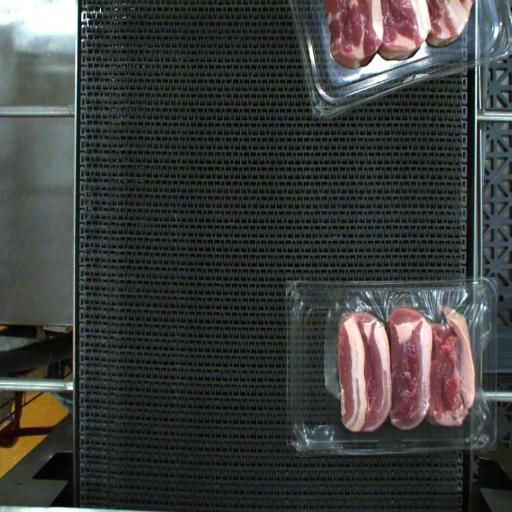unsealed: (328, 282, 492, 436)
